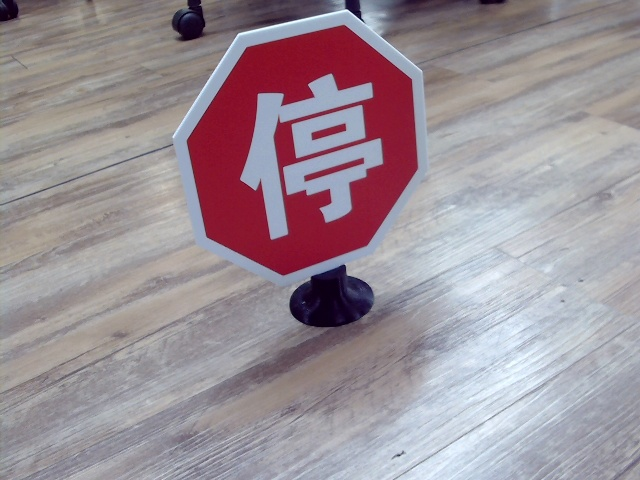stop: (236, 80, 387, 229)
